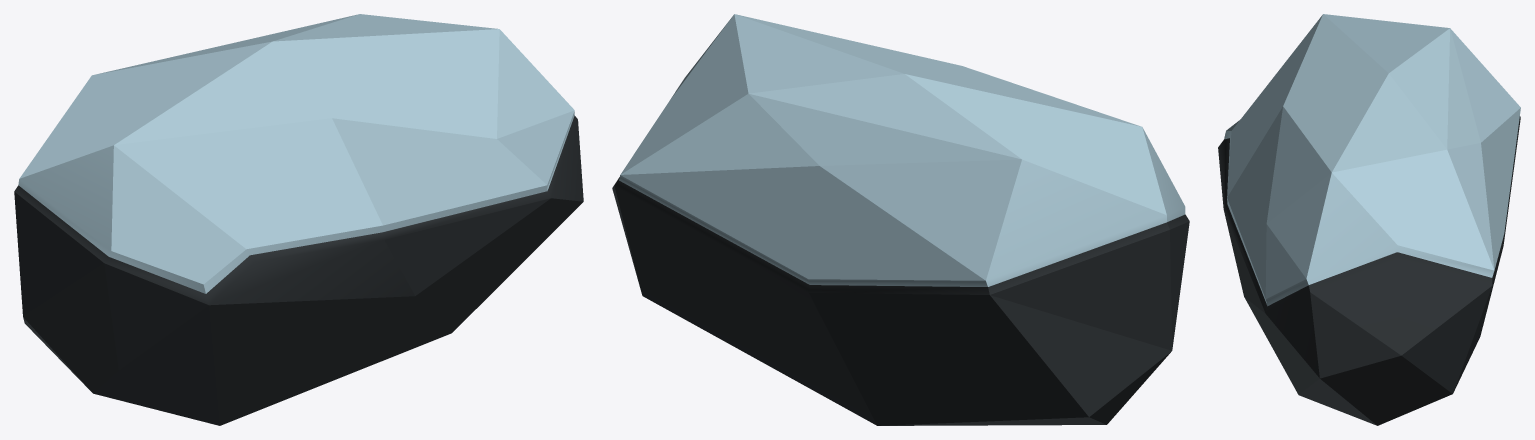
File: Geo_StoneLarge.fbx
The picture shows the model from 3 angles, left to right: view 1: azimuth 30°, elevation 25°; view 2: azimuth 150°, elevation 25°; view 3: azimuth 270°, elevation 25°; orthographic projection. The views are drawn at different scales.
Visible parts, largest first — view 1: StoneLarge_Mesh; view 2: StoneLarge_Mesh; view 3: StoneLarge_Mesh.
Boxes of the visible parts, x1=… form: StoneLarge_Mesh: x1=14, y1=14, x2=583, y2=425; StoneLarge_Mesh: x1=612, y1=14, x2=1189, y2=425; StoneLarge_Mesh: x1=1218, y1=14, x2=1520, y2=425.
Bounding box in the file's own units: 756 × 452 × 405.
